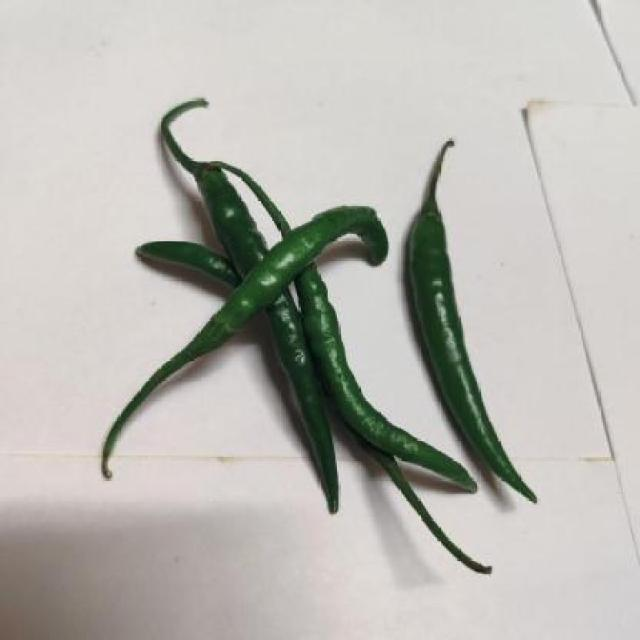Green Chili: (87, 90, 416, 524), (404, 132, 570, 511)
